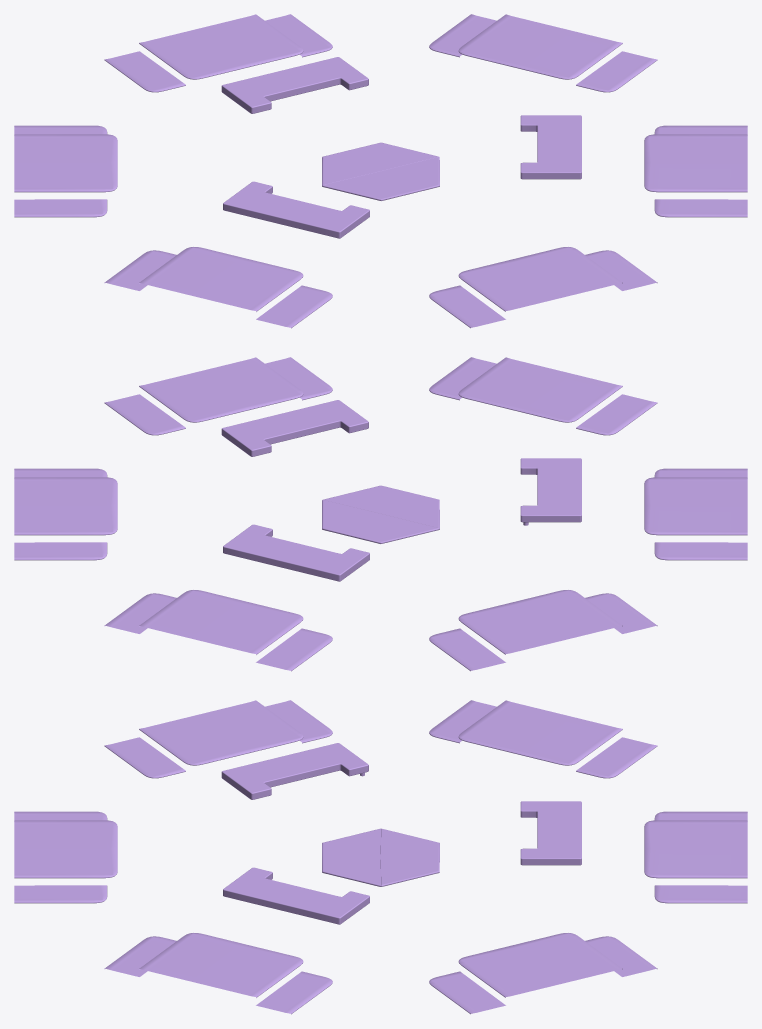
Rendered from HoopsObjectPlatform.fbx.
3 views of the same model, one above another, from view 1: azimuth 30°, elevation 25°; view 2: azimuth 150°, elevation 25°; view 3: azimuth 270°, elevation 25° (orthographic).
Visible parts, largest first — view 1: Combined_Mesh__root__scene__7, Combined_Mesh__root__scene__10, Combined_Mesh__root__scene__18, Combined_Mesh__root__scene__12, Combined_Mesh__root__scene__14, Combined_Mesh__root__scene__16, Combined_Mesh__root__scene__2, Combined_Mesh__root__scene__2_47, Combined_Mesh__root__scene__2_49, Combined_Mesh__root__scene__2_45; view 2: Combined_Mesh__root__scene__16, Combined_Mesh__root__scene__18, Combined_Mesh__root__scene__14, Combined_Mesh__root__scene__10, Combined_Mesh__root__scene__7, Combined_Mesh__root__scene__12, Combined_Mesh__root__scene__2, Combined_Mesh__root__scene__2_45, Combined_Mesh__root__scene__2_47, Combined_Mesh__root__scene__2_49; view 3: Combined_Mesh__root__scene__12, Combined_Mesh__root__scene__14, Combined_Mesh__root__scene__7, Combined_Mesh__root__scene__16, Combined_Mesh__root__scene__10, Combined_Mesh__root__scene__18, Combined_Mesh__root__scene__2, Combined_Mesh__root__scene__2_49, Combined_Mesh__root__scene__2_45, Combined_Mesh__root__scene__2_47.
Boxes of the visible parts, x1,y1,x2,y2 form: Combined_Mesh__root__scene__7: (429,14,657,92); Combined_Mesh__root__scene__10: (104,14,332,92); Combined_Mesh__root__scene__18: (429,247,657,328); Combined_Mesh__root__scene__12: (104,247,332,328); Combined_Mesh__root__scene__14: (14,125,117,217); Combined_Mesh__root__scene__16: (644,125,747,217); Combined_Mesh__root__scene__2: (322,142,439,200); Combined_Mesh__root__scene__2_47: (221,57,368,113); Combined_Mesh__root__scene__2_49: (223,181,369,238); Combined_Mesh__root__scene__2_45: (520,115,581,179); Combined_Mesh__root__scene__16: (104,357,332,435); Combined_Mesh__root__scene__18: (429,357,657,435); Combined_Mesh__root__scene__14: (429,590,657,671); Combined_Mesh__root__scene__10: (104,590,332,671); Combined_Mesh__root__scene__7: (14,468,117,560); Combined_Mesh__root__scene__12: (644,468,747,560); Combined_Mesh__root__scene__2: (322,485,439,543); Combined_Mesh__root__scene__2_45: (221,400,368,456); Combined_Mesh__root__scene__2_47: (223,524,369,581); Combined_Mesh__root__scene__2_49: (520,458,581,522); Combined_Mesh__root__scene__12: (104,700,332,778); Combined_Mesh__root__scene__14: (429,700,657,778); Combined_Mesh__root__scene__7: (429,933,657,1014); Combined_Mesh__root__scene__16: (104,933,332,1014); Combined_Mesh__root__scene__10: (644,811,747,903); Combined_Mesh__root__scene__18: (14,811,117,903); Combined_Mesh__root__scene__2: (322,828,439,886); Combined_Mesh__root__scene__2_49: (221,743,368,799); Combined_Mesh__root__scene__2_45: (223,867,369,924); Combined_Mesh__root__scene__2_47: (520,801,581,865).
Size of the model in its own units: 280 by 11.85 by 277.
